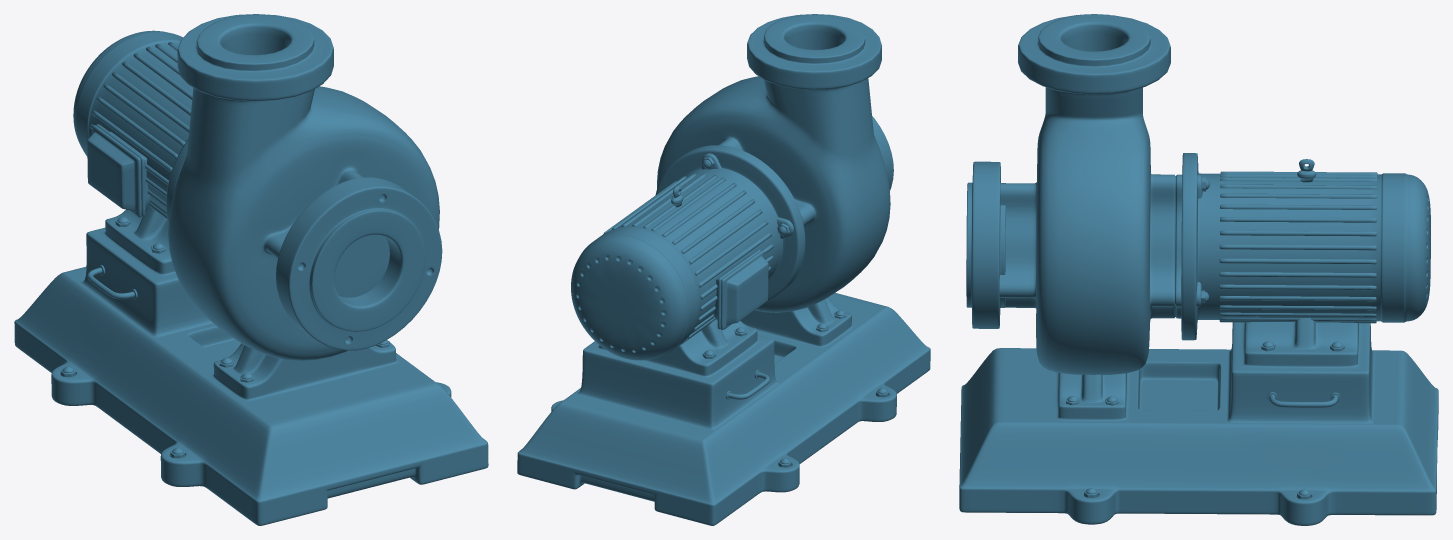
Rendered from 11221166blend.glb.
3 views of the same model, side by side, from view 1: azimuth 30°, elevation 25°; view 2: azimuth 150°, elevation 25°; view 3: azimuth 270°, elevation 25° (orthographic). The views are drawn at different scales.
Parts seen in each view (by area): view 1: 16561_6-Inch_Dewatering_Pump_v1; view 2: 16561_6-Inch_Dewatering_Pump_v1; view 3: 16561_6-Inch_Dewatering_Pump_v1.
Boxes of the visible parts, x1,y1,x2,y2 form: 16561_6-Inch_Dewatering_Pump_v1: (14, 14, 488, 525); 16561_6-Inch_Dewatering_Pump_v1: (517, 14, 930, 525); 16561_6-Inch_Dewatering_Pump_v1: (959, 14, 1438, 525).
Bounding box in the file's own units: 0.3489 × 0.4942 × 0.529.
